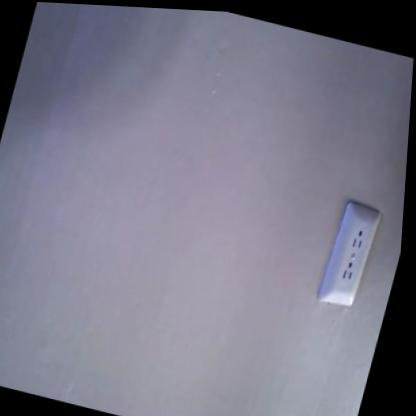OUTLET: (317, 197, 384, 313)
